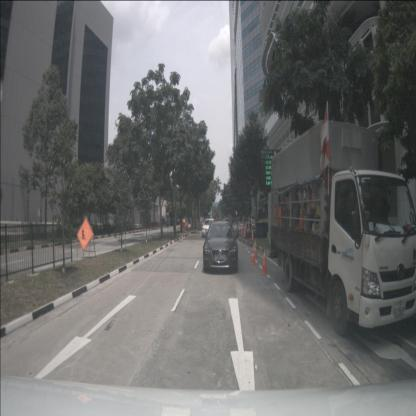cone: (260, 249, 269, 275), (250, 243, 257, 265), (252, 239, 258, 259), (251, 226, 254, 241), (243, 227, 246, 238), (241, 226, 243, 236)
